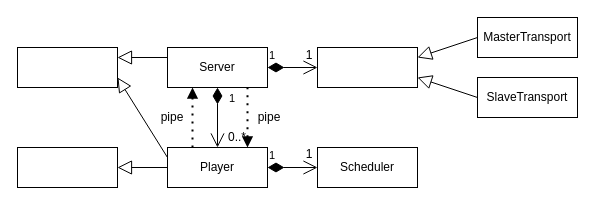
The diagram is 595 pixels wide and 205 high, and some of its shapes have lost their labels. Each missing label, with the centre of its shape:
«abstract» AsyncOscObject: (x=67, y=67)
«abstract» Process: (x=67, y=167)
«abstract» Transport: (x=367, y=67)
